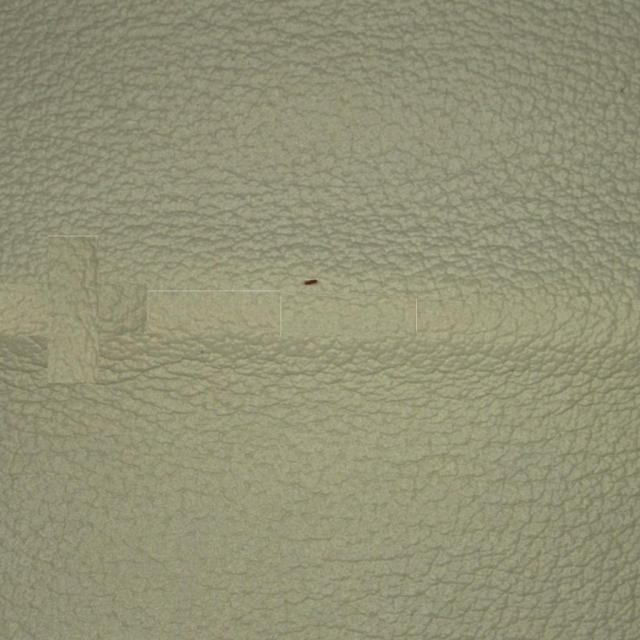Healed Injury: (37, 227, 286, 404)
pinhole: (242, 208, 390, 346)
